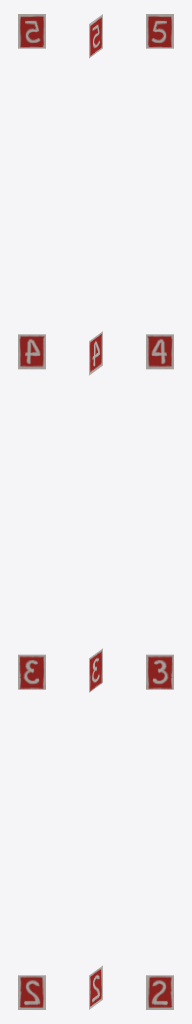
Rendered from floorNums.fbx.
3 renders of one model, left to right at view 1: azimuth 90°, elevation 25°; view 2: azimuth 150°, elevation 25°; view 3: azimuth 270°, elevation 25°, orthographic.
Visible parts, largest first — view 1: floorNumber; view 2: floorNumber; view 3: floorNumber.
Boxes of the visible parts, box(x1,y1,x2,y2) form: floorNumber: box(18, 14, 45, 1009); floorNumber: box(89, 14, 102, 1009); floorNumber: box(146, 14, 173, 1009).
Bounding box in the file's own units: 8.12e-05 × 787 × 20.
Materials: 1 (1 with a texture image).
